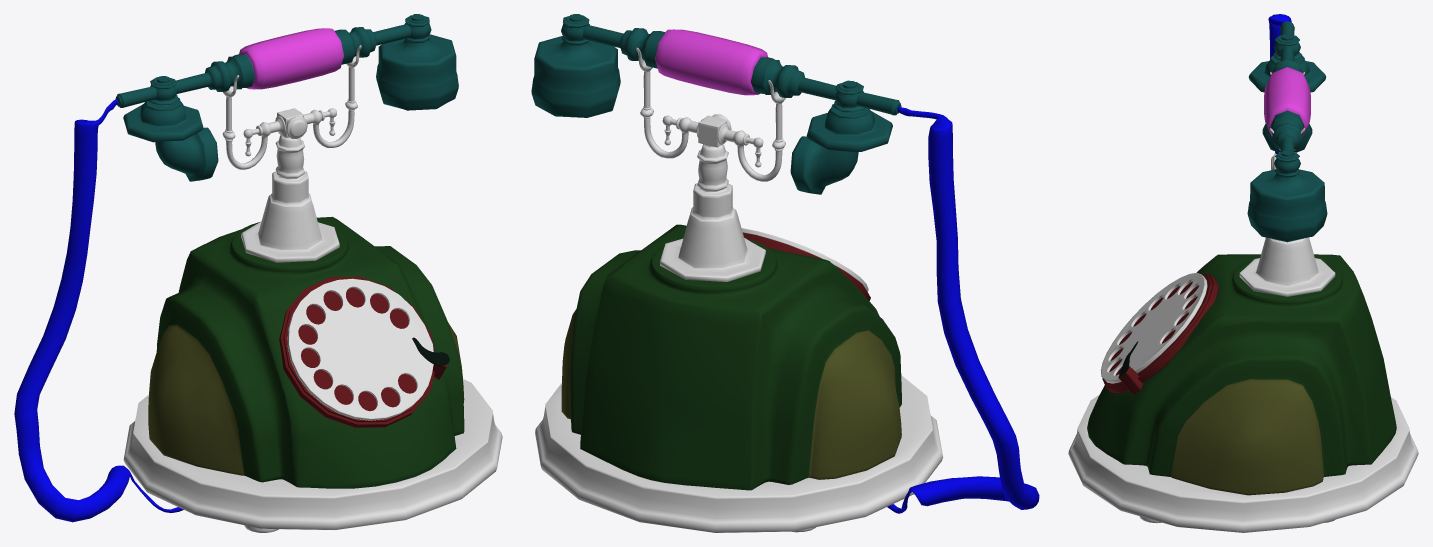
File: Old fashioned Dial Phone Complete Optimization low poly.fbx
The picture shows the model from 3 angles, left to right: view 1: azimuth 30°, elevation 25°; view 2: azimuth 150°, elevation 25°; view 3: azimuth 270°, elevation 25°; orthographic projection. The views are drawn at different scales.
Visible parts, largest first — view 1: Main_Body, Handle, Base, RotaryDial, Cable, Handle_Holder, Dial_Plate; view 2: Main_Body, Handle, Base, Cable, Handle_Holder, Dial_Plate, RotaryDial; view 3: Main_Body, Base, Handle, RotaryDial, Handle_Holder, Dial_Plate, Cable.
Part boxes in pixels (x1=…): Main_Body: x1=148, y1=216, x2=464, y2=488; Handle: x1=115, y1=14, x2=458, y2=181; Base: x1=123, y1=379, x2=502, y2=532; RotaryDial: x1=287, y1=278, x2=433, y2=420; Cable: x1=14, y1=99, x2=183, y2=522; Handle_Holder: x1=222, y1=45, x2=361, y2=262; Dial_Plate: x1=279, y1=276, x2=449, y2=427; Main_Body: x1=561, y1=224, x2=901, y2=490; Handle: x1=531, y1=14, x2=901, y2=194; Base: x1=535, y1=375, x2=943, y2=532; Cable: x1=887, y1=106, x2=1039, y2=513; Handle_Holder: x1=636, y1=47, x2=785, y2=281; Dial_Plate: x1=743, y1=232, x2=870, y2=300; RotaryDial: x1=741, y1=228, x2=868, y2=291; Main_Body: x1=1087, y1=254, x2=1396, y2=495; Base: x1=1068, y1=394, x2=1418, y2=532; Handle: x1=1247, y1=21, x2=1327, y2=242; RotaryDial: x1=1100, y1=272, x2=1207, y2=383; Handle_Holder: x1=1239, y1=72, x2=1335, y2=296; Dial_Plate: x1=1102, y1=273, x2=1219, y2=394; Cable: x1=1268, y1=14, x2=1291, y2=153.
Bounding box in the file's own units: 18.44 × 16.77 × 13.41.
